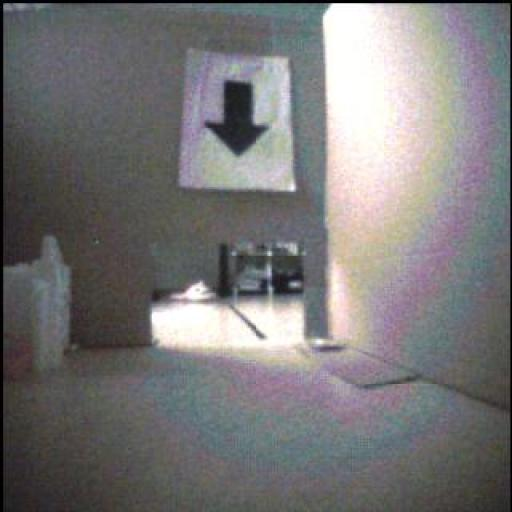arrow: (206, 83, 268, 156)
